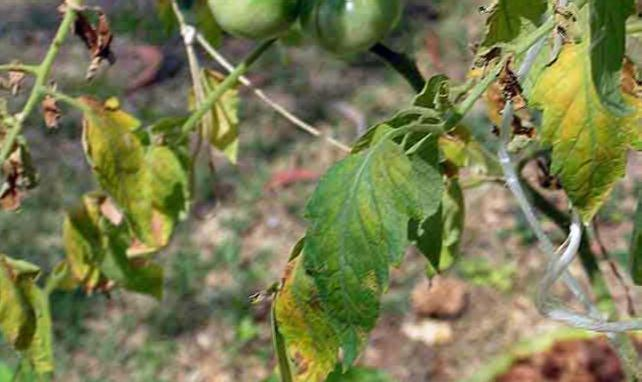Tomato mold leaf: (263, 138, 426, 382), (525, 28, 642, 241), (69, 96, 166, 239)
